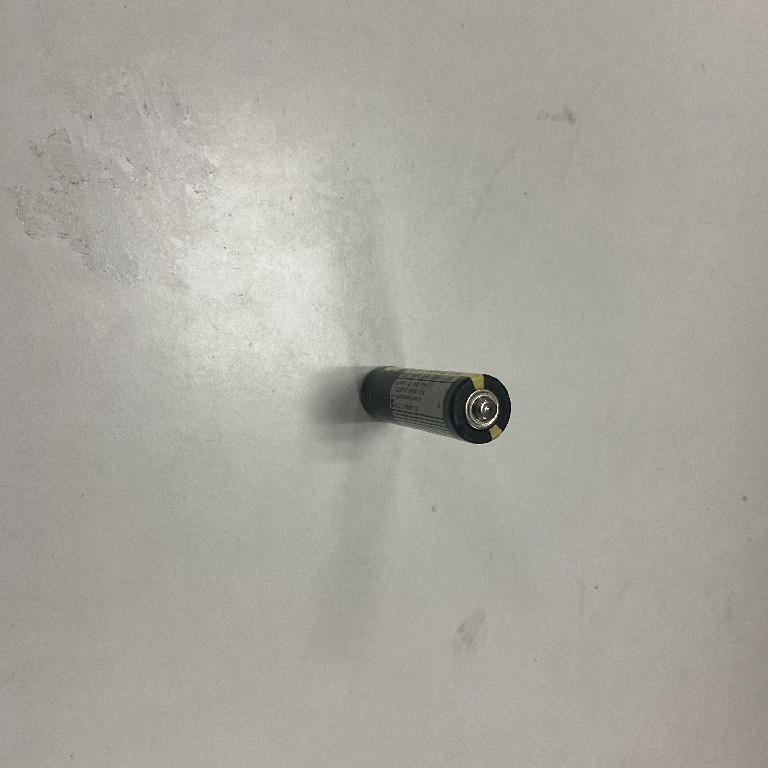charge: (357, 361, 514, 447)
